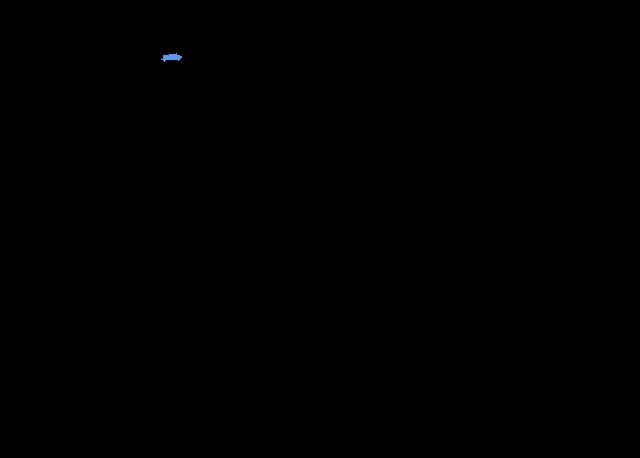Airplane: (161, 53, 181, 62)
